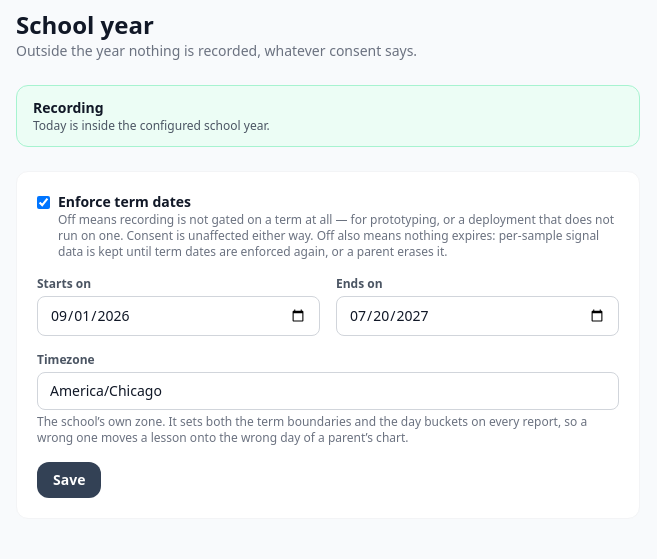
Test: the Saved message › clears as soon as a field is edited
Click the button "Save": coordinates (69, 480) [37,462,101,498]
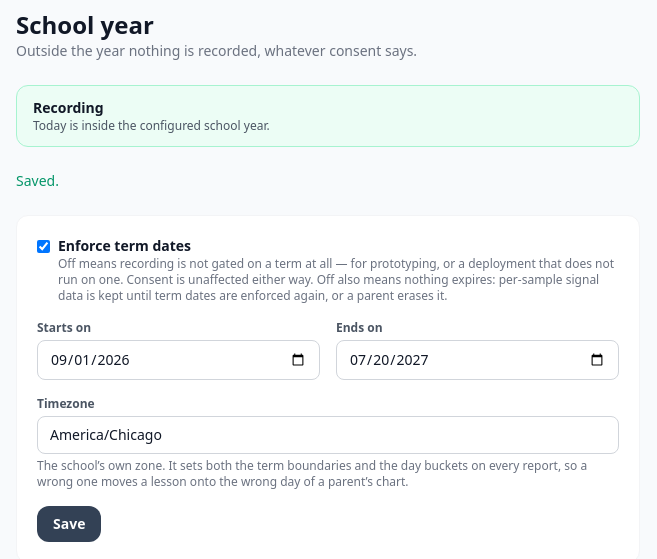
Expected: the text "Saved." is shown, [16,171,59,190]
In the field labelled "Timezone": coordinates (328, 435) [37,416,619,454], type "x"
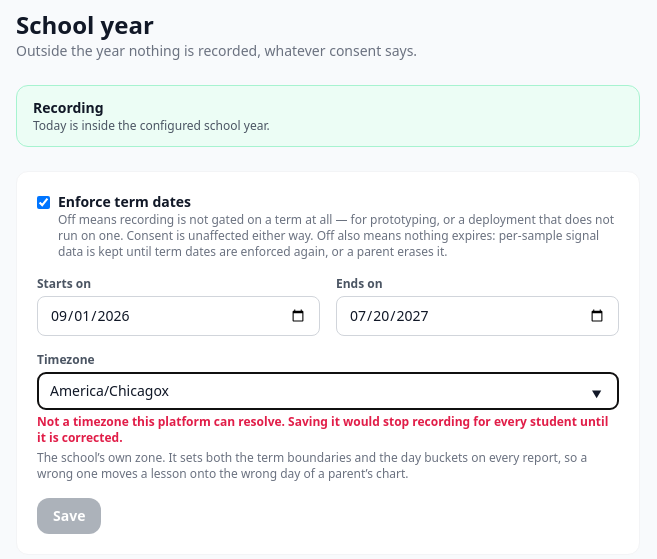
Expected: the text "Saved." is gone
